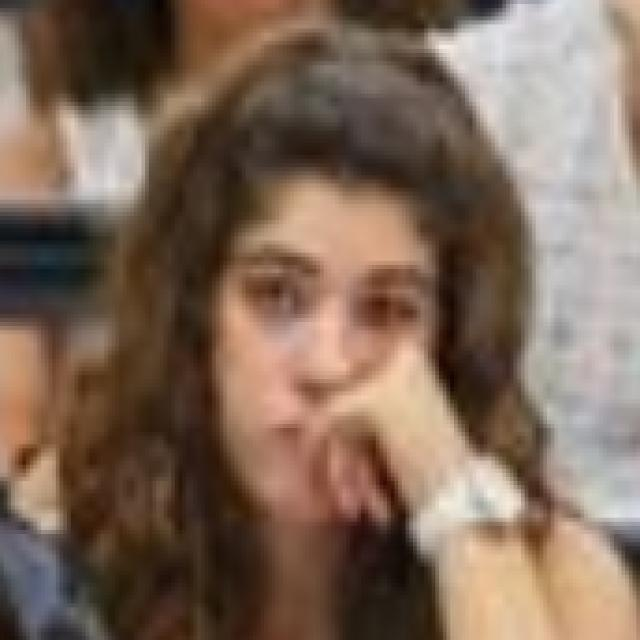Looking forward: (208, 173, 438, 526)
